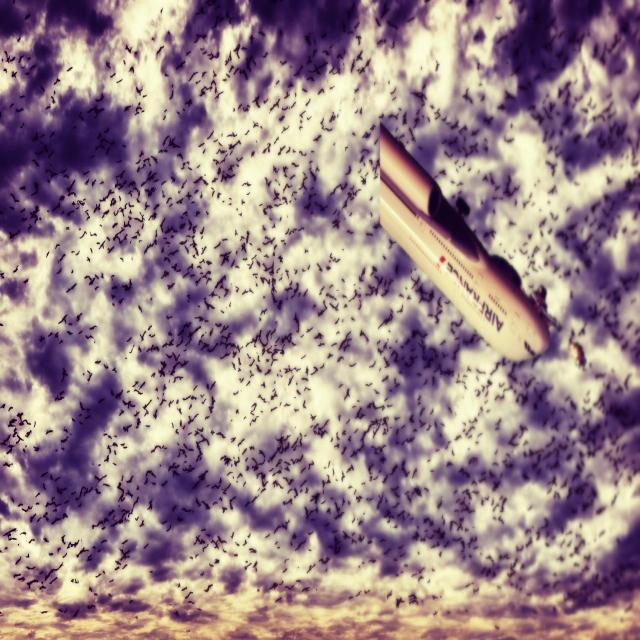airplane: (378, 121, 553, 363)
